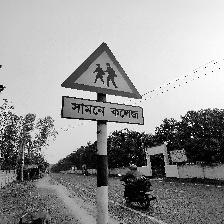College-in-front: (50, 26, 191, 149)
